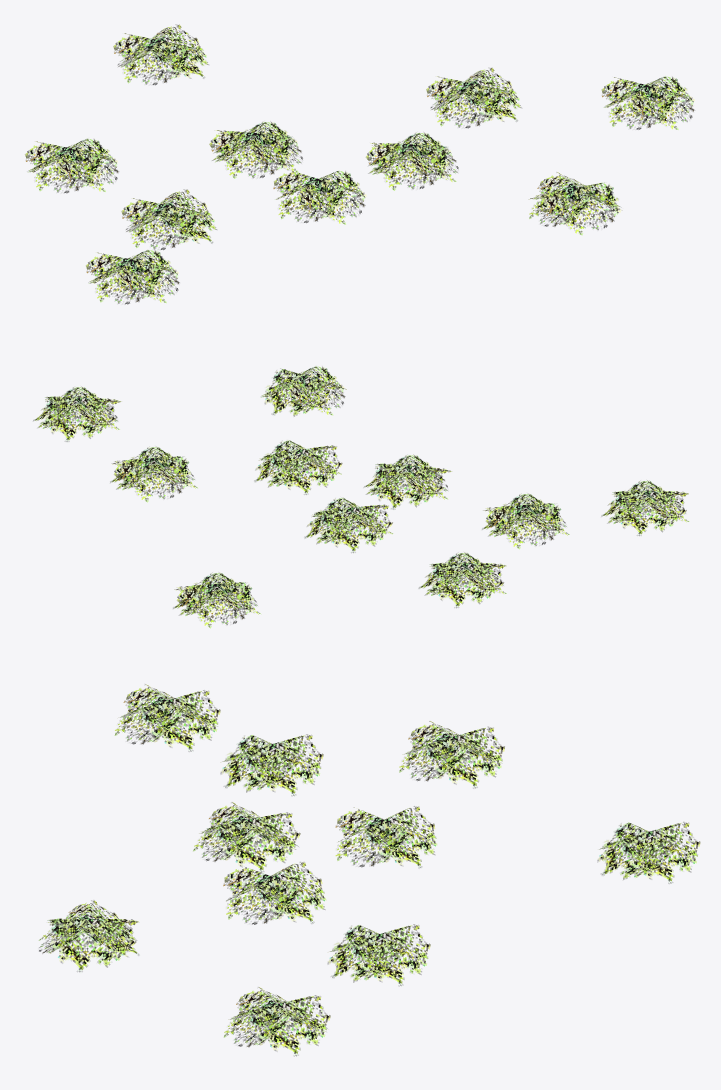
File: Environment - Vegetation - Bush 17 - PTBush17.glb
The picture shows the model from 3 angles, top to bottom: view 1: azimuth 30°, elevation 25°; view 2: azimuth 150°, elevation 25°; view 3: azimuth 270°, elevation 25°; orthographic projection. The views are drawn at different scales.
Parts seen in each view (by area): view 1: PTBUSH17; view 2: PTBUSH17; view 3: PTBUSH17.
Boxes of the visible parts, x1,y1,x2,y2 form: PTBUSH17: (25,24,694,304); PTBUSH17: (32,366,689,628); PTBUSH17: (38,684,700,1056).
Size of the model in its own units: 95.99 by 5.48 by 78.35.
Materials: 1 (1 with a texture image).
